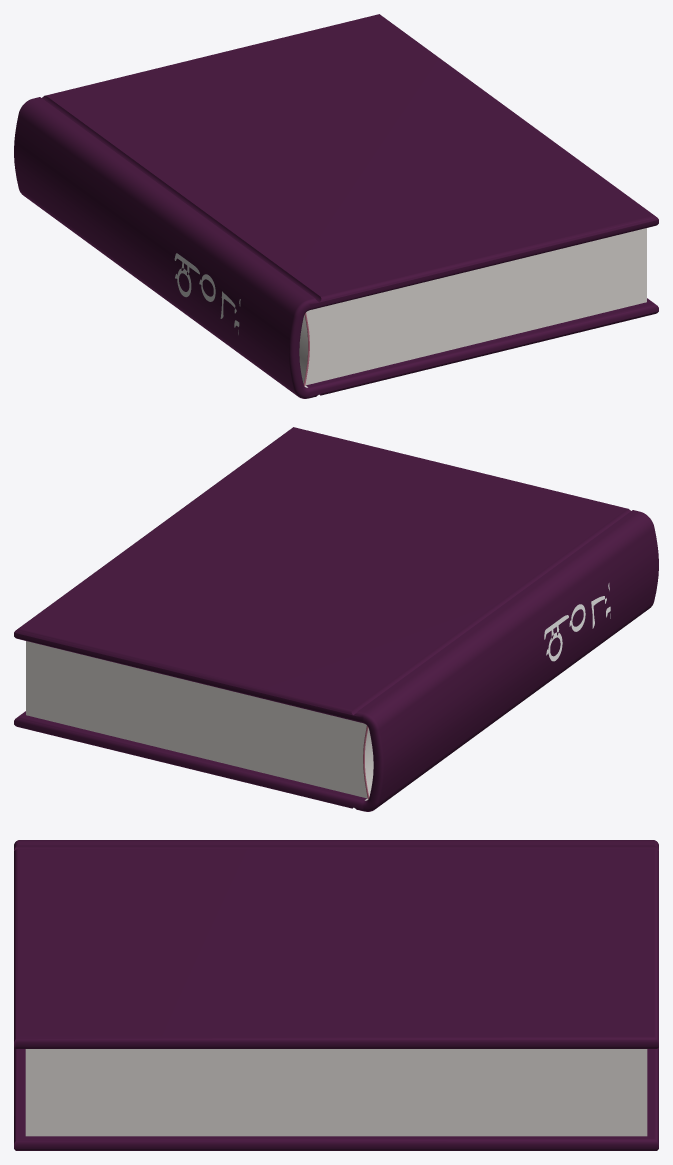
File: book9.glb
The picture shows the model from 3 angles, top to bottom: view 1: azimuth 30°, elevation 25°; view 2: azimuth 150°, elevation 25°; view 3: azimuth 270°, elevation 25°; orthographic projection. The views are drawn at different scales.
Visible parts, largest first — view 1: Geode, Text; view 2: Geode, Text; view 3: Geode.
Boxes of the visible parts, x1=… form: Geode: x1=14, y1=14, x2=658, y2=398; Text: x1=174, y1=253, x2=240, y2=334; Geode: x1=14, y1=427, x2=658, y2=811; Text: x1=544, y1=583, x2=610, y2=661; Geode: x1=14, y1=840, x2=658, y2=1150.
Bounding box in the file's own units: 0.5052 × 0.1292 × 0.6604.
Materials: 3 (1 with a texture image).
